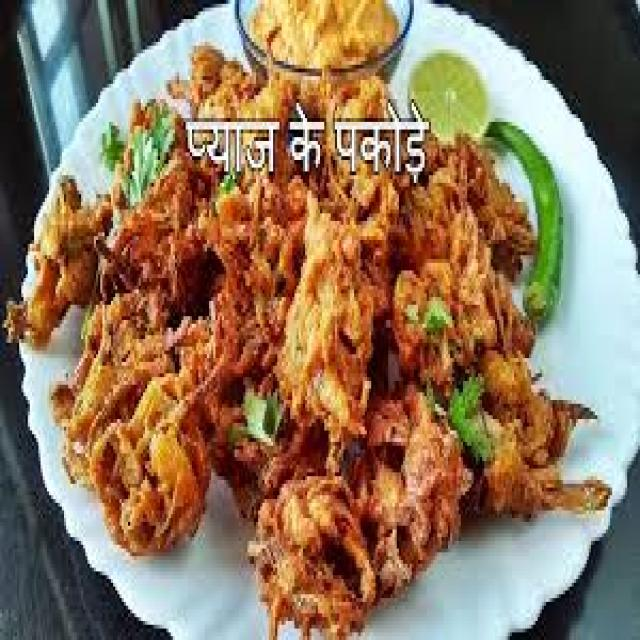BAJI: (6, 0, 612, 636), (275, 194, 371, 469)
